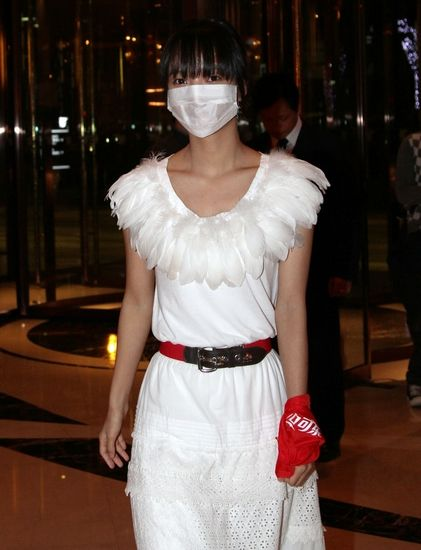face: (262, 102, 291, 140)
face_mask: (171, 56, 228, 137)
